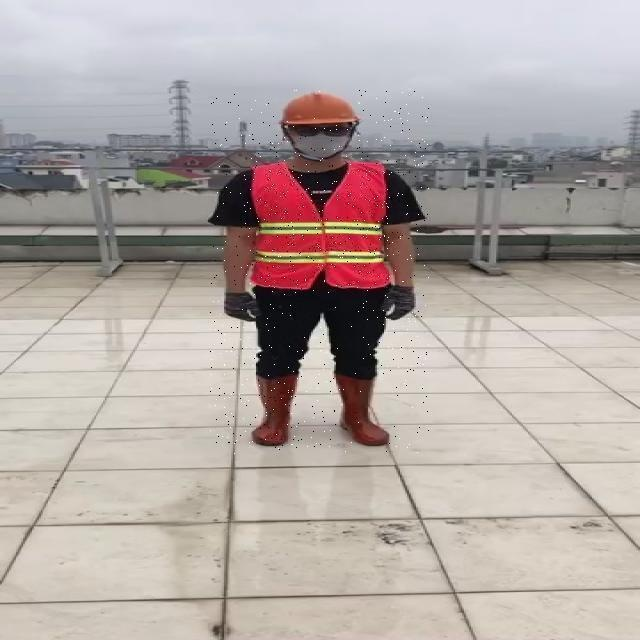Gafas: (282, 126, 352, 138)
Guantes: (383, 285, 417, 321), (224, 293, 264, 322)
